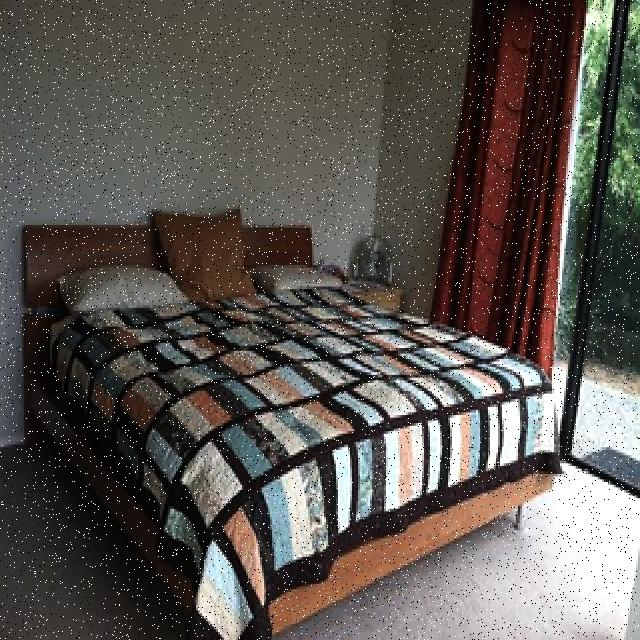bed: (32, 218, 539, 606)
